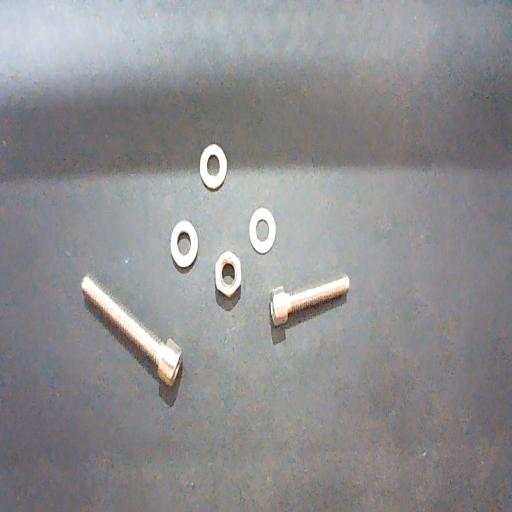nut: (215, 250, 241, 298)
screw: (81, 273, 182, 386), (269, 274, 349, 327)
washer: (170, 220, 198, 268), (249, 208, 276, 254), (200, 143, 226, 190)
